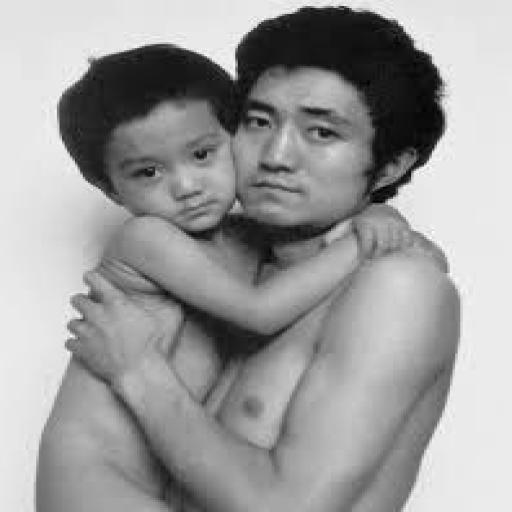hugging: (31, 4, 465, 510)
